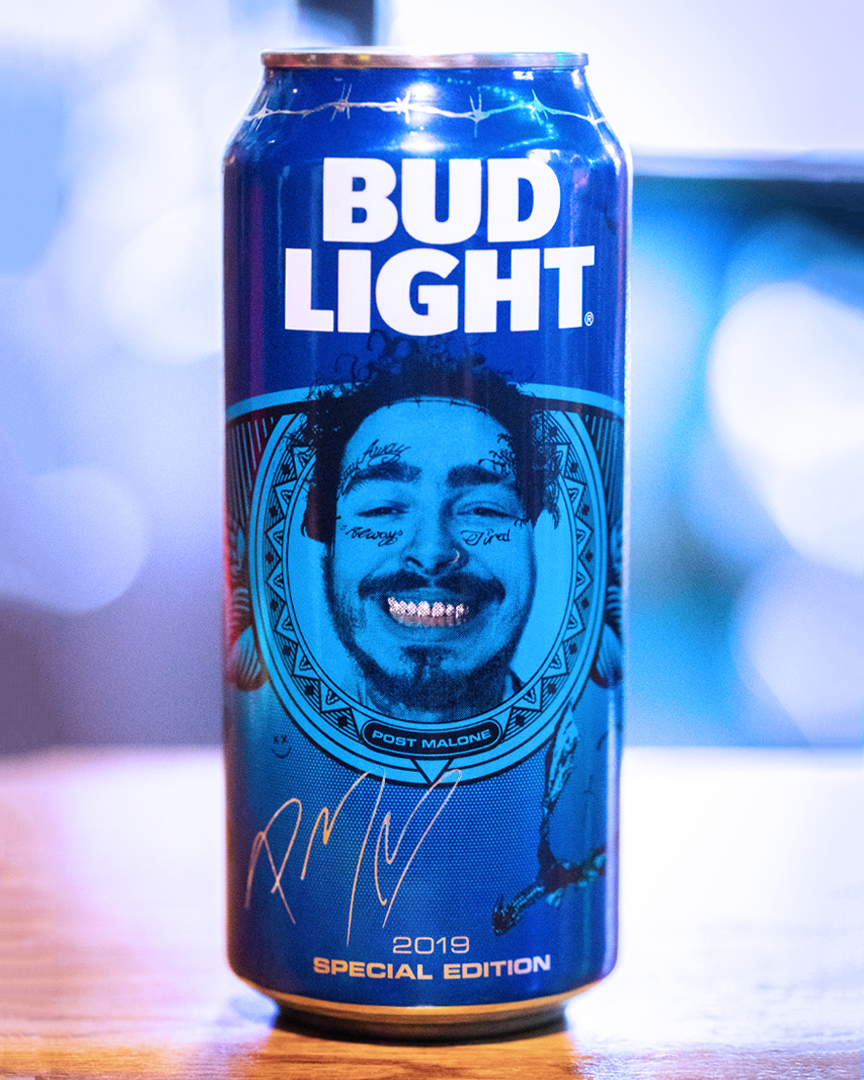beer can: (221, 38, 627, 1040)
